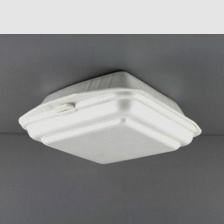foam_box: (15, 67, 205, 168)
